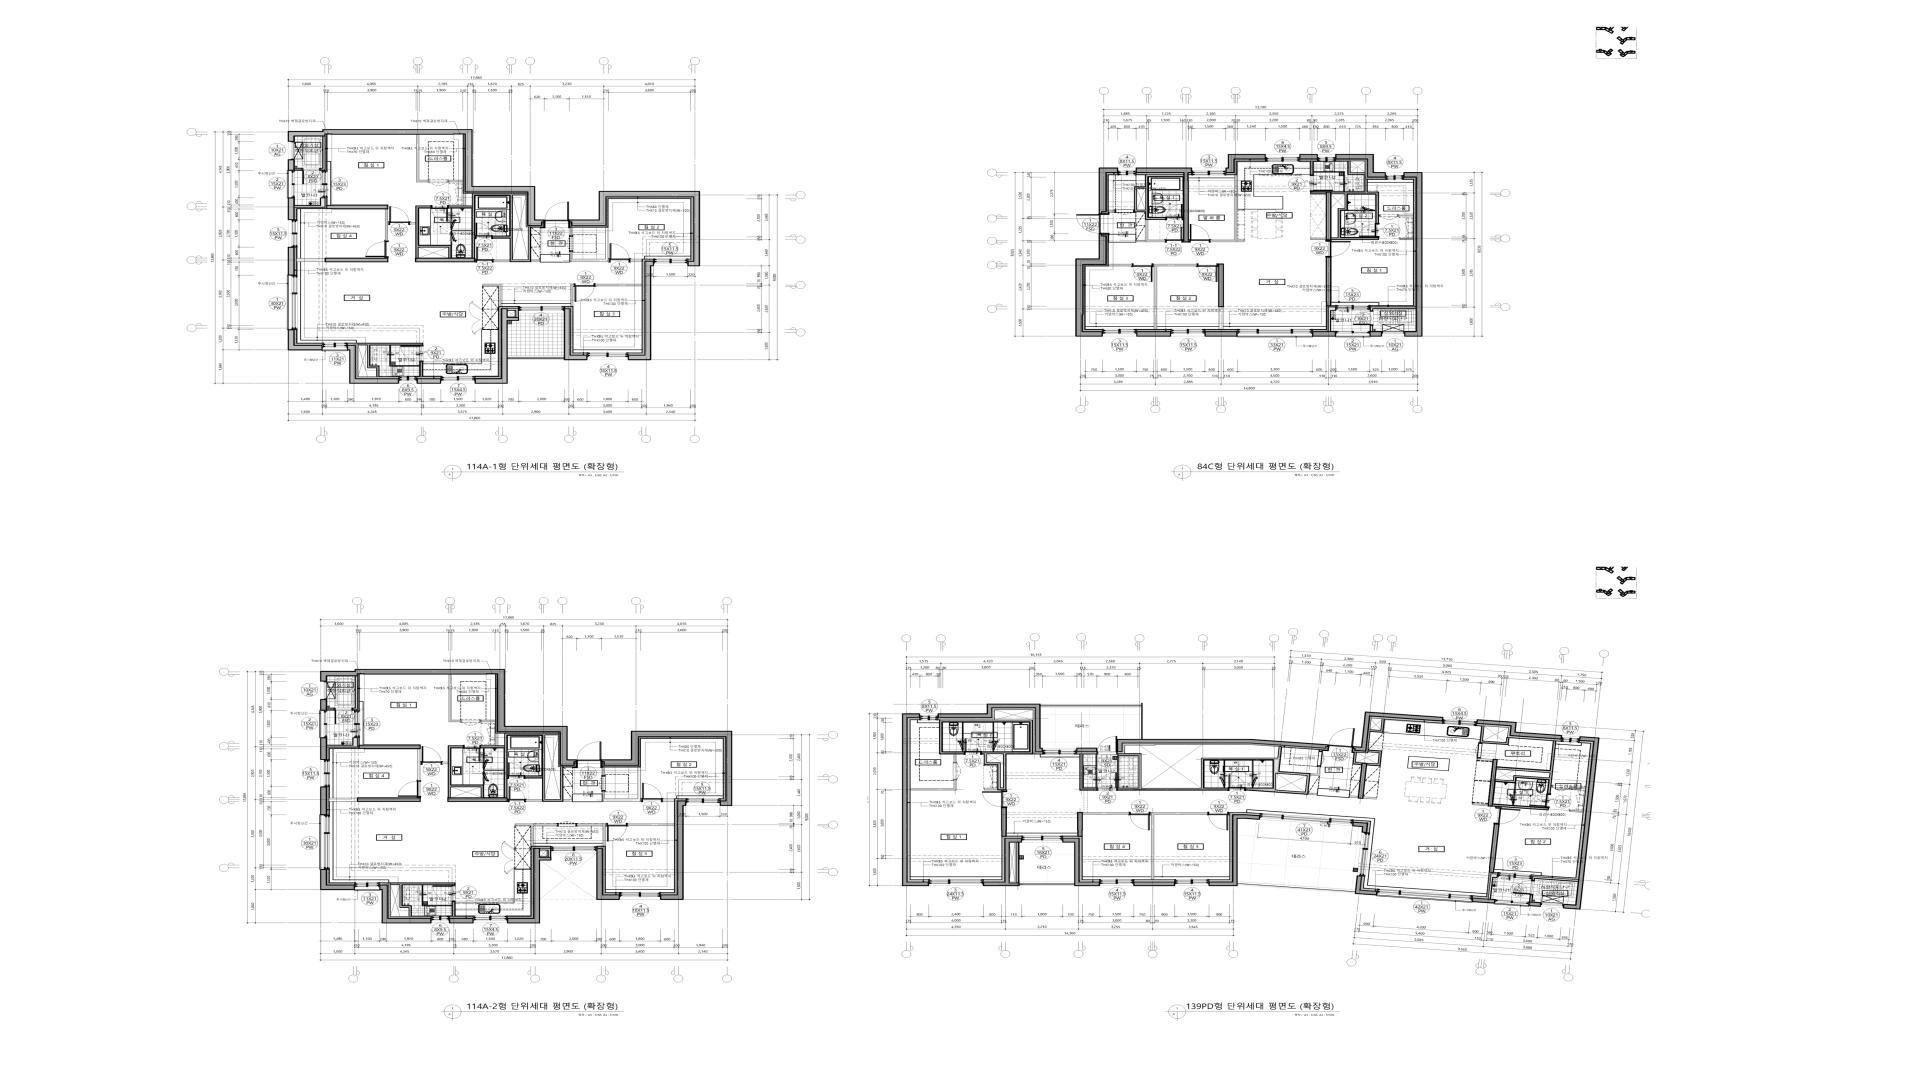door: (576, 741, 601, 767), (543, 203, 570, 228), (1076, 214, 1109, 233), (1329, 727, 1356, 749), (1494, 807, 1520, 825), (1325, 240, 1352, 257), (608, 243, 630, 262), (982, 791, 1007, 808), (1188, 224, 1211, 243), (605, 823, 628, 841), (1129, 812, 1151, 831), (1309, 174, 1333, 191), (400, 345, 423, 363), (1133, 264, 1154, 282), (421, 746, 442, 765), (641, 783, 662, 802), (1097, 773, 1118, 791), (1197, 264, 1218, 282), (1208, 812, 1229, 831), (388, 207, 409, 225), (574, 284, 595, 302), (433, 885, 455, 902), (398, 781, 421, 798), (365, 241, 389, 257), (1097, 736, 1117, 754), (1513, 880, 1535, 895), (1530, 793, 1552, 807), (463, 745, 481, 762), (475, 223, 493, 240), (302, 167, 320, 185), (1353, 311, 1374, 326), (508, 762, 525, 779), (964, 738, 981, 756), (508, 786, 526, 802), (1228, 775, 1246, 791), (475, 247, 493, 262), (1360, 223, 1379, 237), (1166, 227, 1183, 243), (1166, 204, 1183, 220), (335, 708, 352, 724), (431, 206, 448, 222), (1551, 785, 1572, 793), (953, 762, 961, 779), (1379, 214, 1399, 220), (429, 179, 448, 186), (1474, 742, 1482, 758), (460, 720, 481, 725), (1114, 210, 1134, 215), (558, 822, 576, 827)
wall: (320, 669, 576, 766), (287, 129, 543, 225), (1118, 746, 1321, 795), (601, 731, 732, 806), (570, 191, 700, 266), (939, 720, 1033, 791), (481, 733, 572, 802), (448, 194, 539, 262), (1564, 736, 1600, 910), (938, 704, 1043, 753), (902, 713, 928, 886), (1135, 167, 1192, 243), (1151, 812, 1208, 880), (1040, 703, 1143, 738), (1209, 815, 1261, 886), (1353, 712, 1444, 752), (506, 848, 551, 923), (475, 309, 520, 384), (1495, 740, 1557, 794), (1134, 175, 1183, 243), (1403, 171, 1423, 336), (1075, 233, 1106, 336), (1332, 179, 1379, 240), (1154, 264, 1197, 330), (1117, 738, 1329, 752), (659, 800, 686, 901), (628, 261, 654, 360), (1211, 175, 1245, 243), (409, 206, 452, 257), (442, 745, 484, 798), (390, 882, 455, 916), (359, 343, 423, 377), (347, 345, 400, 384), (380, 885, 431, 923), (982, 837, 1022, 886), (1477, 719, 1563, 740), (1063, 837, 1100, 886), (1238, 882, 1356, 894), (603, 767, 641, 802), (570, 228, 608, 262), (596, 848, 620, 901), (564, 309, 588, 360), (1336, 154, 1386, 178), (514, 824, 558, 847), (1098, 167, 1118, 214), (1225, 154, 1266, 173), (320, 869, 355, 890), (287, 330, 322, 351), (1080, 753, 1097, 791), (576, 824, 605, 847), (1480, 725, 1510, 745), (448, 674, 460, 723), (417, 135, 429, 182), (1489, 824, 1499, 873), (1487, 758, 1498, 807), (910, 779, 956, 790), (1493, 803, 1549, 811), (1354, 876, 1377, 895), (483, 284, 501, 306), (1358, 762, 1367, 799), (326, 204, 388, 210), (1325, 191, 1332, 240), (1325, 257, 1332, 306), (327, 737, 357, 748), (415, 257, 475, 262), (294, 198, 324, 207), (1487, 873, 1498, 899), (357, 798, 421, 802), (324, 258, 388, 262), (1367, 749, 1382, 766), (359, 745, 421, 749), (1532, 877, 1578, 882), (447, 798, 508, 802), (1218, 264, 1224, 307), (1348, 161, 1365, 174), (1019, 882, 1075, 886), (508, 356, 563, 360), (1370, 719, 1385, 733), (320, 786, 327, 815), (287, 247, 294, 276), (1353, 822, 1369, 833), (1328, 307, 1336, 331), (1001, 808, 1007, 836), (1370, 307, 1416, 311), (1137, 331, 1171, 336), (352, 676, 357, 711), (1205, 331, 1238, 336), (320, 137, 326, 170), (1134, 882, 1175, 886), (320, 737, 327, 760), (287, 198, 294, 220), (1077, 812, 1083, 837), (448, 918, 473, 923), (417, 378, 442, 384), (1312, 331, 1336, 336), (595, 284, 642, 286), (1353, 752, 1362, 765), (1083, 812, 1129, 815), (1218, 307, 1224, 330), (1473, 898, 1495, 903), (328, 798, 357, 802), (1076, 748, 1097, 753), (297, 258, 324, 262), (1017, 843, 1019, 882), (1299, 154, 1317, 160), (541, 848, 551, 857), (508, 309, 518, 318), (418, 749, 421, 781), (385, 210, 388, 241), (320, 699, 327, 711), (287, 160, 294, 171), (451, 902, 456, 916), (1109, 264, 1133, 266), (1530, 902, 1542, 907), (1370, 331, 1382, 336), (628, 824, 674, 825), (571, 284, 574, 306), (419, 363, 423, 377), (630, 258, 642, 262), (1477, 758, 1493, 761), (1311, 191, 1325, 194), (481, 720, 496, 723), (1569, 810, 1584, 812), (1473, 803, 1487, 806), (1572, 787, 1586, 790), (1311, 237, 1325, 240), (1364, 796, 1377, 799), (1311, 161, 1313, 174), (496, 733, 498, 745), (662, 799, 674, 802), (1530, 895, 1534, 902), (295, 167, 302, 171), (1349, 795, 1358, 798), (603, 767, 605, 775), (570, 228, 572, 236), (1399, 215, 1414, 216), (1399, 239, 1414, 240), (448, 181, 463, 182), (327, 708, 334, 711), (1109, 210, 1114, 212), (1370, 326, 1373, 331)
window: (1377, 889, 1473, 903), (1261, 814, 1353, 825), (1238, 328, 1312, 338), (286, 276, 298, 330), (1357, 833, 1370, 877), (319, 815, 330, 869), (518, 306, 564, 314), (928, 880, 982, 886), (587, 352, 628, 360), (1443, 717, 1477, 727), (1498, 872, 1532, 881), (620, 891, 659, 899), (551, 847, 596, 853), (1102, 328, 1137, 336), (1495, 899, 1530, 907), (686, 798, 720, 806), (1022, 836, 1063, 843), (1192, 167, 1225, 175), (1171, 328, 1204, 336), (1266, 154, 1299, 162), (473, 915, 506, 923), (654, 258, 687, 266), (442, 376, 475, 384), (320, 760, 330, 786), (289, 220, 298, 247), (286, 171, 295, 198), (355, 882, 380, 891), (1336, 331, 1370, 338), (1175, 880, 1209, 886), (1100, 880, 1134, 886), (1043, 748, 1076, 754), (319, 711, 327, 737), (352, 711, 360, 737), (323, 343, 347, 351), (1336, 305, 1370, 310), (320, 171, 327, 198), (1542, 902, 1564, 909), (1317, 154, 1336, 162), (1561, 736, 1580, 744), (1118, 167, 1135, 175), (431, 915, 448, 923), (400, 376, 417, 384), (1382, 331, 1404, 336), (320, 682, 327, 699), (920, 713, 938, 720), (1386, 175, 1403, 181), (289, 142, 294, 160)
